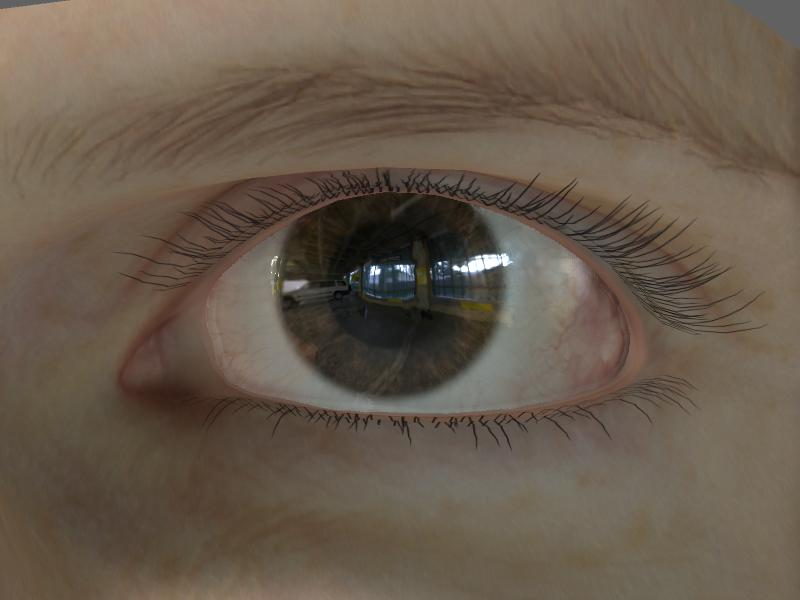eye: (277, 196, 500, 397)
